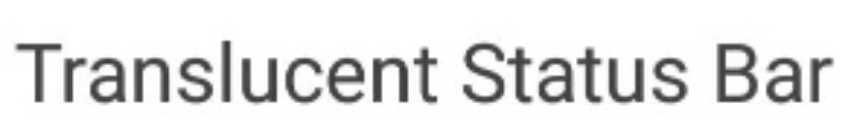TextView: (1, 1, 847, 139)
